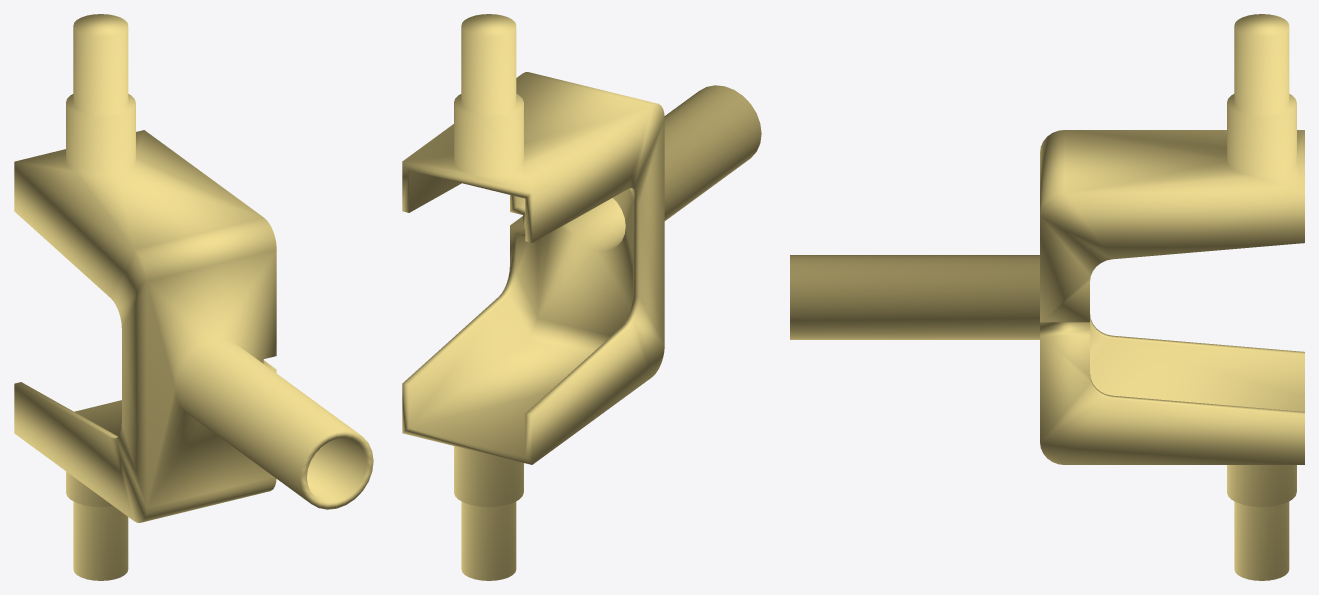
Rendered from Chassis.obj.
The picture shows the model from 3 angles, left to right: view 1: azimuth 30°, elevation 25°; view 2: azimuth 150°, elevation 25°; view 3: azimuth 270°, elevation 25°; orthographic projection.
Parts seen in each view (by area): view 1: Chassis; view 2: Chassis; view 3: Chassis.
Part boxes in pixels (x1=…): Chassis: x1=14, y1=14, x2=373, y2=580; Chassis: x1=402, y1=14, x2=761, y2=580; Chassis: x1=790, y1=14, x2=1304, y2=580.
Size of the model in its own units: 0.03 by 0.12 by 0.103.
1 material, 1 textured.
